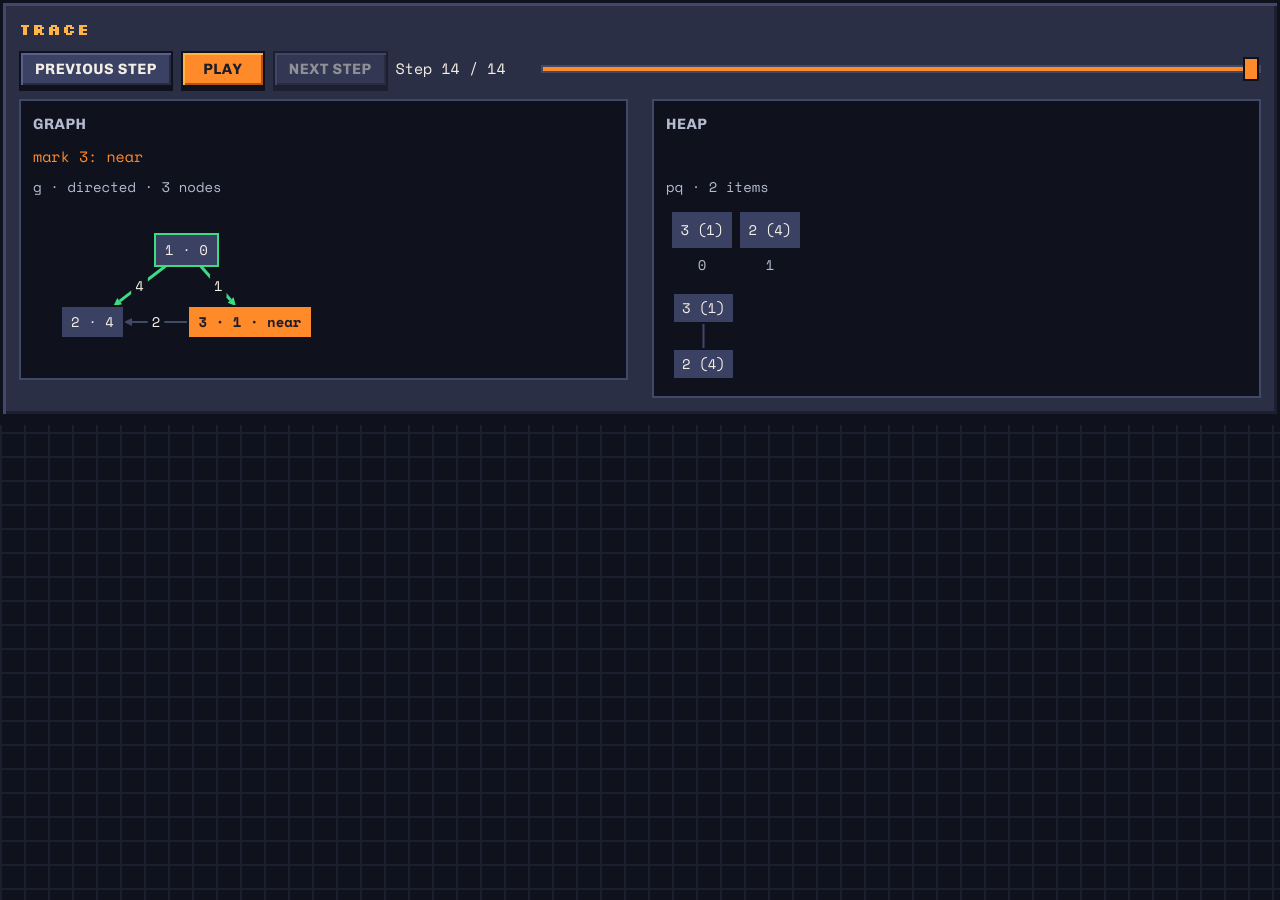
Test case: family panels (§3–§4) › steps back: captions move between panels and current marks only the touched elements
Expected: the element with test id "graph-view" is shown, [19,99,628,380]
Click the button "Previous step" at (96, 69), box [19,51,173,87]
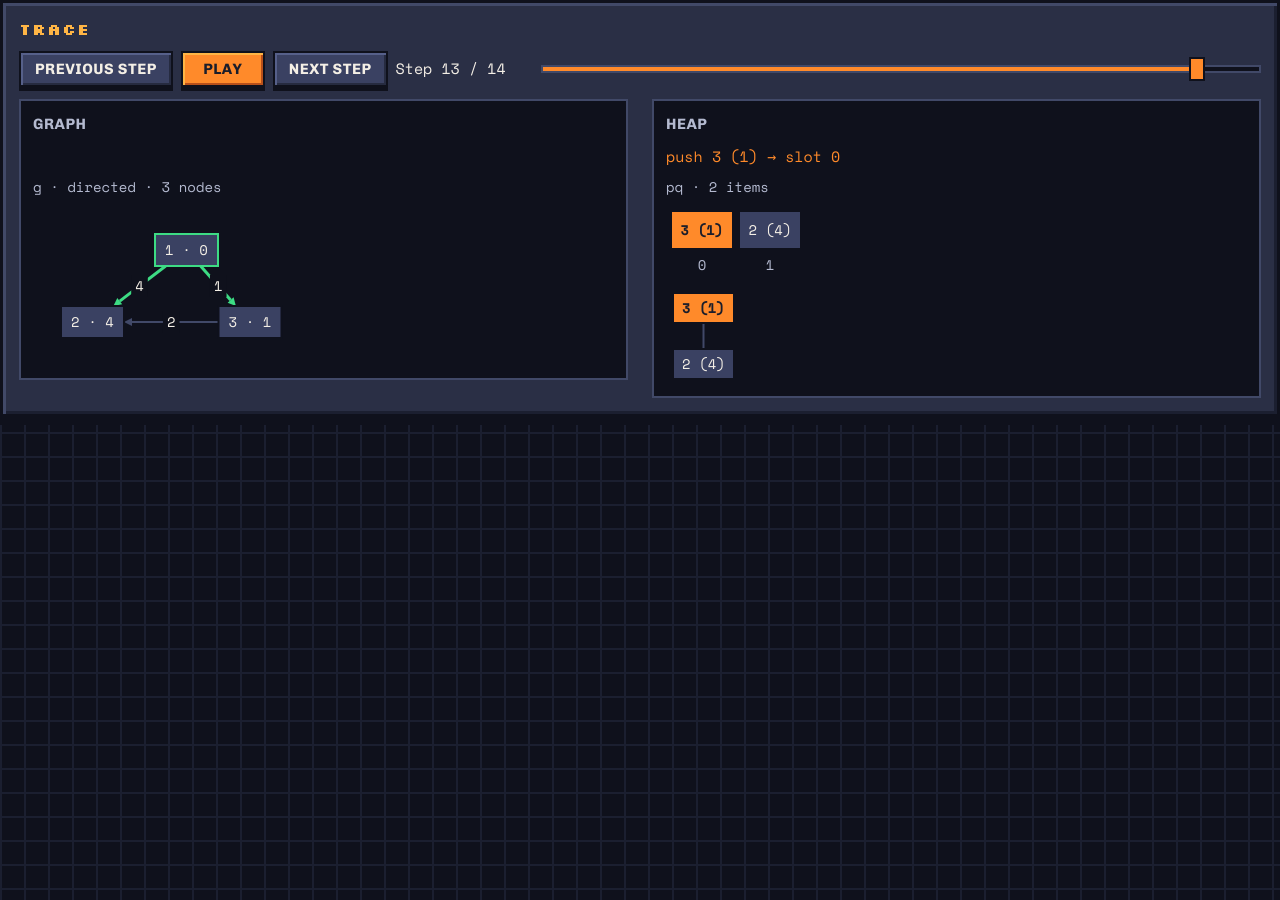
Result: the text with test id "dp-step-counter" reads "Step 13 / 14" at [396,57,506,79]
Result: the text with test id "heap-caption" reads "push 3 (1) → slot 0" at [666,145,840,167]
Click the button "Previous step" at (96, 69), box [19,51,173,87]
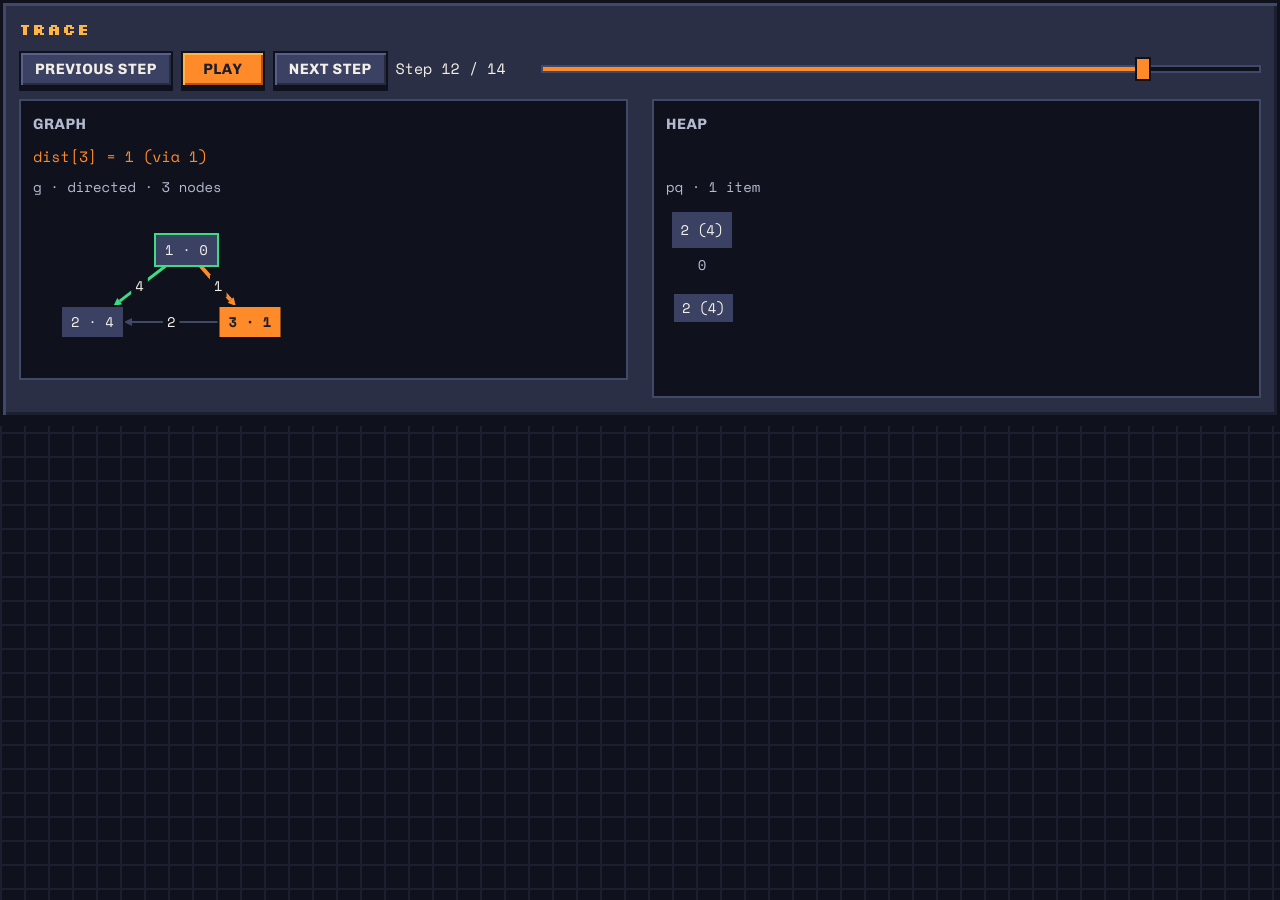
Result: the text with test id "graph-caption" reads "dist[3] = 1 (via 1)" at [33,145,207,167]
